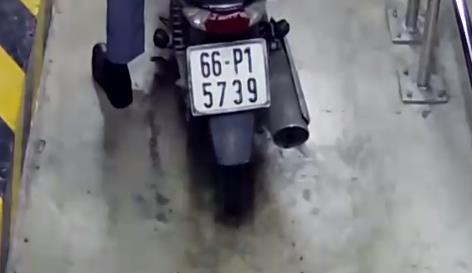lisence: (186, 39, 271, 117)
